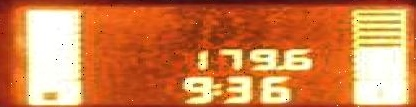-: (273, 64, 283, 69)
1: (192, 47, 208, 70)
3: (221, 75, 249, 102)
6: (255, 74, 289, 103), (281, 47, 312, 70)
7: (213, 47, 242, 70)
9: (177, 75, 211, 104), (245, 47, 276, 70)
X: (208, 81, 221, 95)
